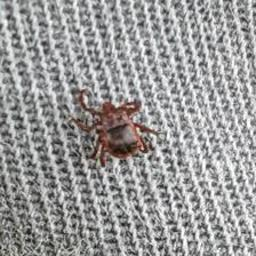Rhipicephalus sanguineus: (77, 92, 160, 167)
